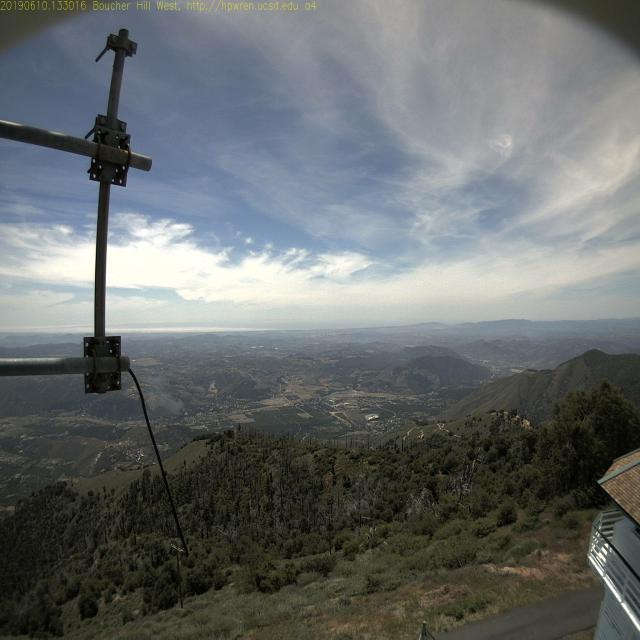smoke: (148, 372, 190, 418), (170, 391, 194, 425)
